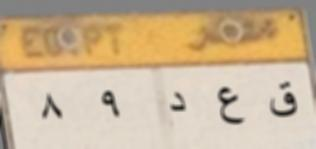8: (35, 90, 67, 125)
9: (99, 87, 124, 120)
ain: (213, 84, 249, 130)
daal: (167, 90, 189, 115)
qaaf: (267, 78, 299, 122)
